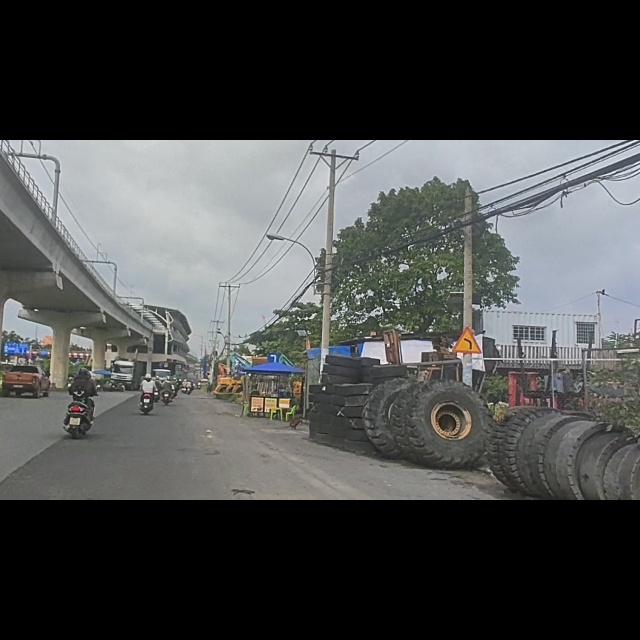bien_cam: (453, 331, 482, 380), (267, 377, 280, 397)
